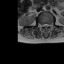CCS_normal: (44, 21, 47, 32)
LFS_normal: (49, 21, 51, 28)
LLS_normal: (47, 21, 49, 29)
RFS_normal: (40, 22, 42, 28)
RLS_normal: (42, 22, 44, 29)
